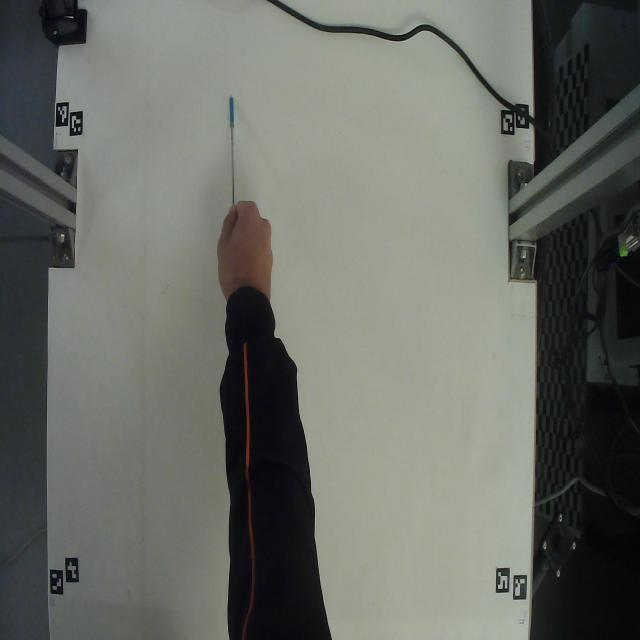Pres: (225, 91, 242, 210)
